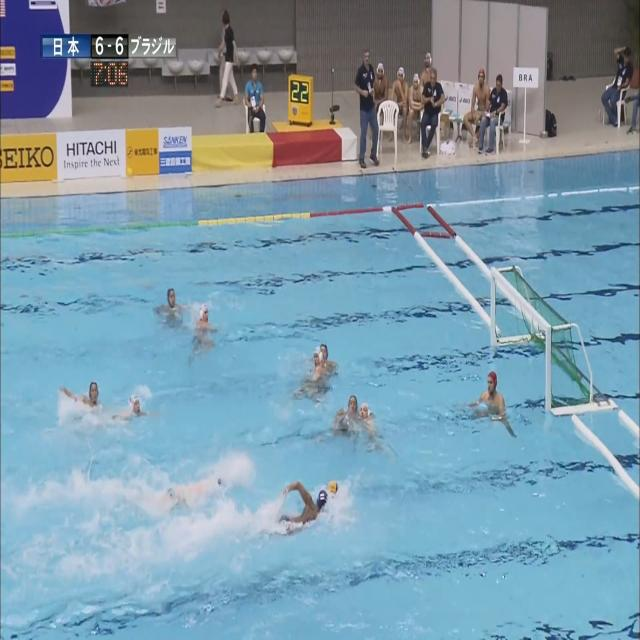ball: (328, 481, 338, 497)
